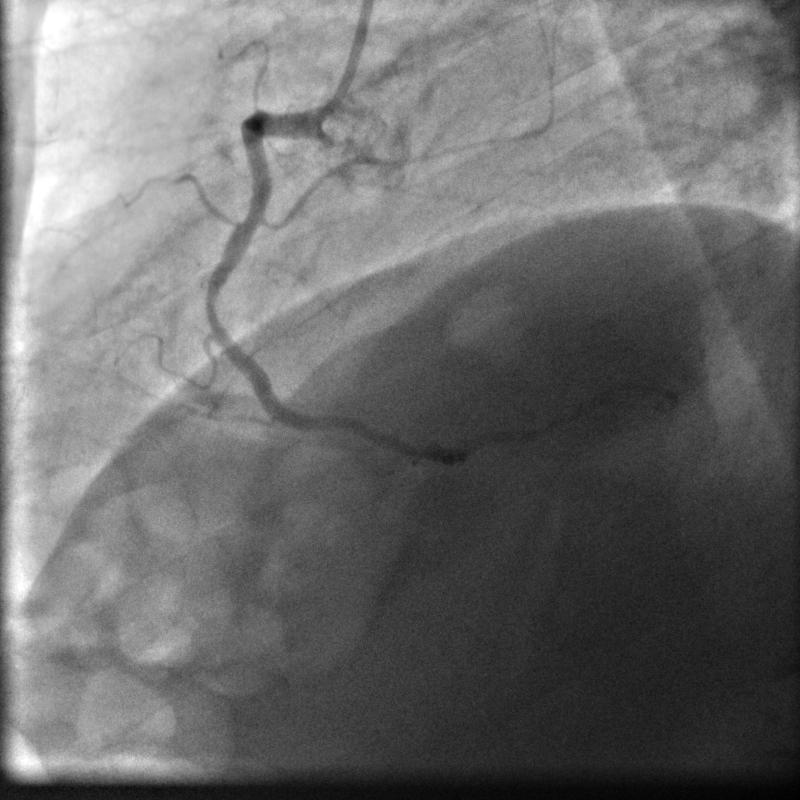Stenosis: (202, 291, 221, 317)
